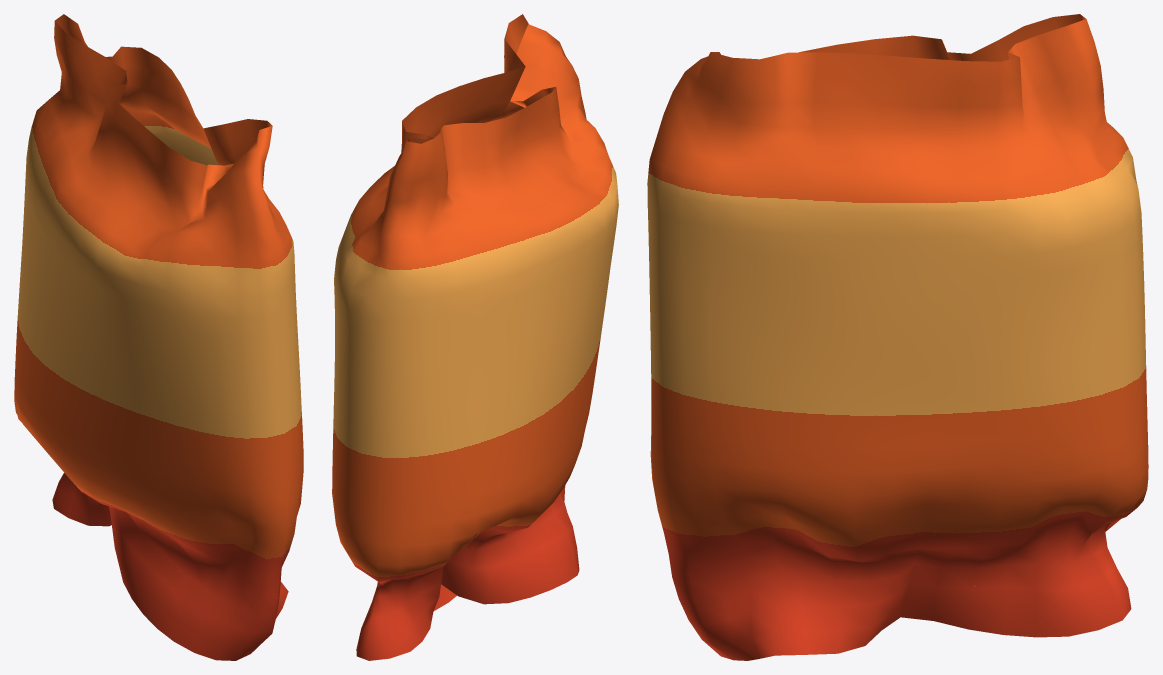
File: envoltorioHambur.fbx
3 renders of one model, left to right at view 1: azimuth 30°, elevation 25°; view 2: azimuth 150°, elevation 25°; view 3: azimuth 270°, elevation 25°, orthographic. The views are drawn at different scales.
Parts seen in each view (by area): view 1: envoltorioHambur; view 2: envoltorioHambur; view 3: envoltorioHambur.
Boxes of the visible parts, x1,y1,x2,y2 form: envoltorioHambur: (14,14,303,660); envoltorioHambur: (332,14,618,660); envoltorioHambur: (647,14,1148,660).
Size of the model in its own units: 134 by 365 by 267.
